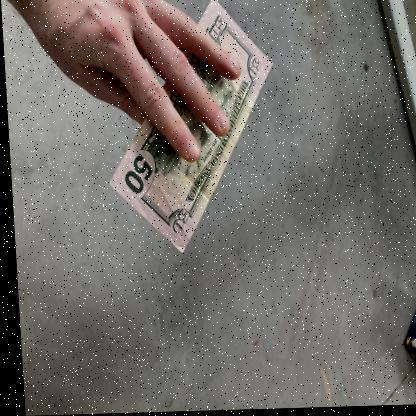dollar_back: (104, 0, 272, 259)
